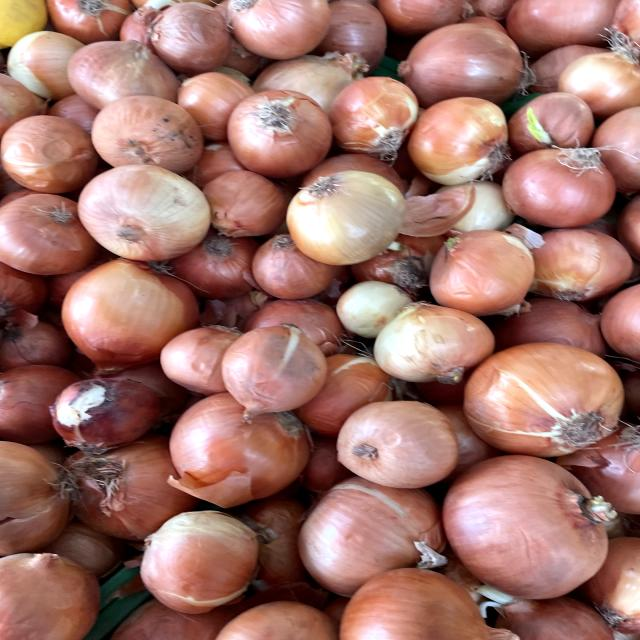onion: (434, 442, 626, 607), (45, 256, 214, 380), (69, 154, 223, 272), (124, 499, 284, 612), (269, 164, 422, 271), (208, 313, 336, 425), (211, 79, 352, 178), (367, 293, 508, 391), (324, 393, 469, 487), (499, 123, 625, 231), (396, 92, 523, 188)
